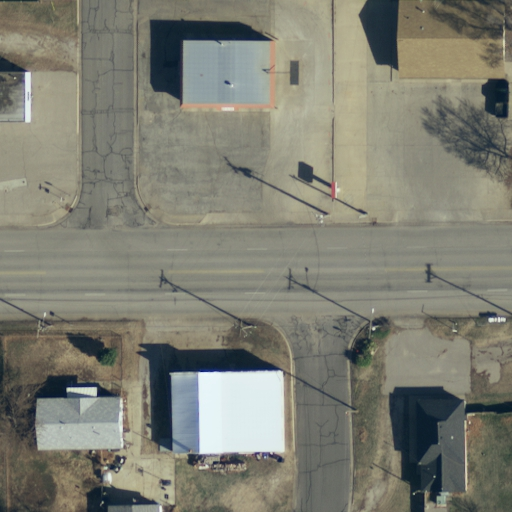DT: (363, 308, 389, 341), (310, 203, 339, 230), (232, 314, 258, 341), (33, 313, 55, 340), (340, 401, 361, 422), (351, 206, 373, 226)
